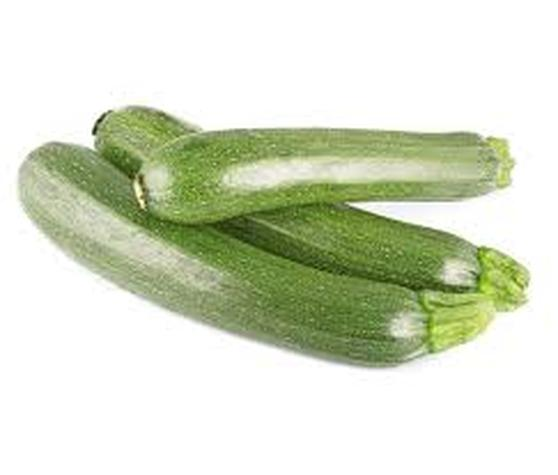zucchini: (124, 121, 526, 225)
